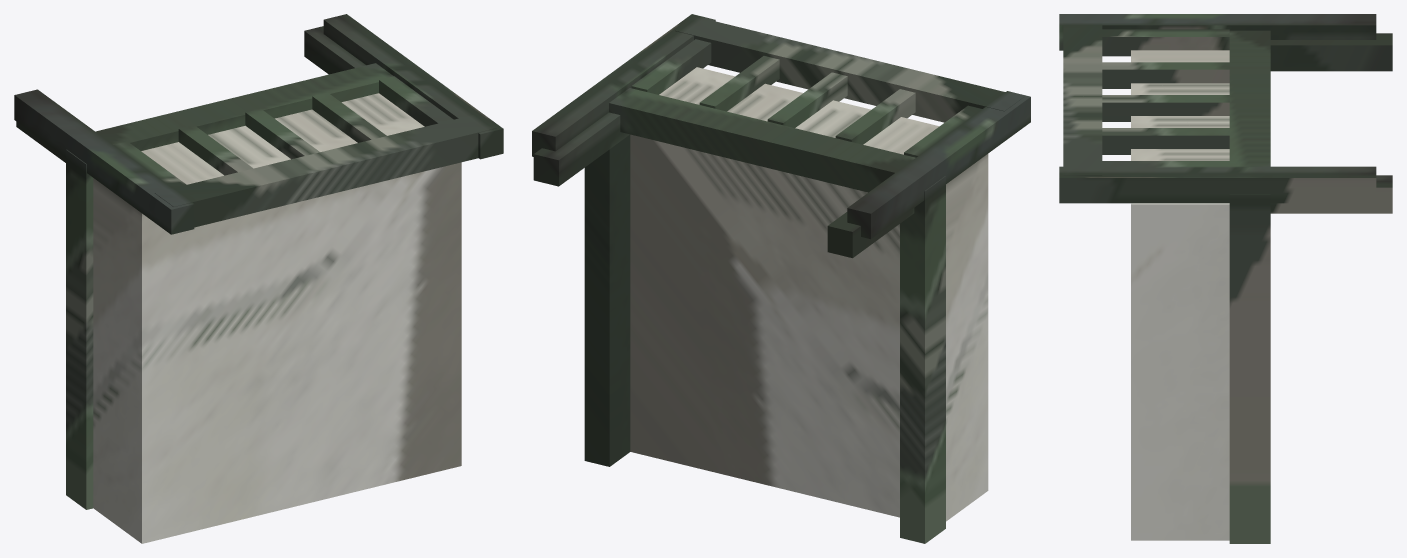
The model's file is pz_bed_bedding_01_hospital_0_1.obj.
The picture shows the model from 3 angles, left to right: view 1: azimuth 30°, elevation 25°; view 2: azimuth 150°, elevation 25°; view 3: azimuth 270°, elevation 25°; orthographic projection. The views are drawn at different scales.
Visible parts, largest first — view 1: root; view 2: root; view 3: root.
Boxes of the visible parts, x1=… form: root: x1=14, y1=14, x2=503, y2=543; root: x1=532, y1=14, x2=1030, y2=543; root: x1=1059, y1=14, x2=1392, y2=543.
Size of the model in its own units: 0.95 by 0.985 by 0.8129.
Materials: 1 (1 with a texture image).
